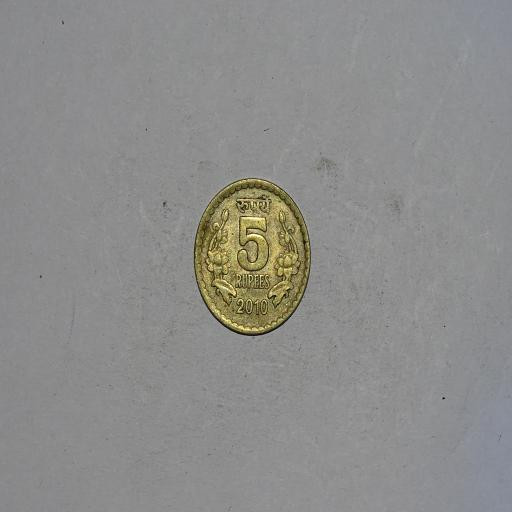rupee5: (188, 176, 312, 340)
